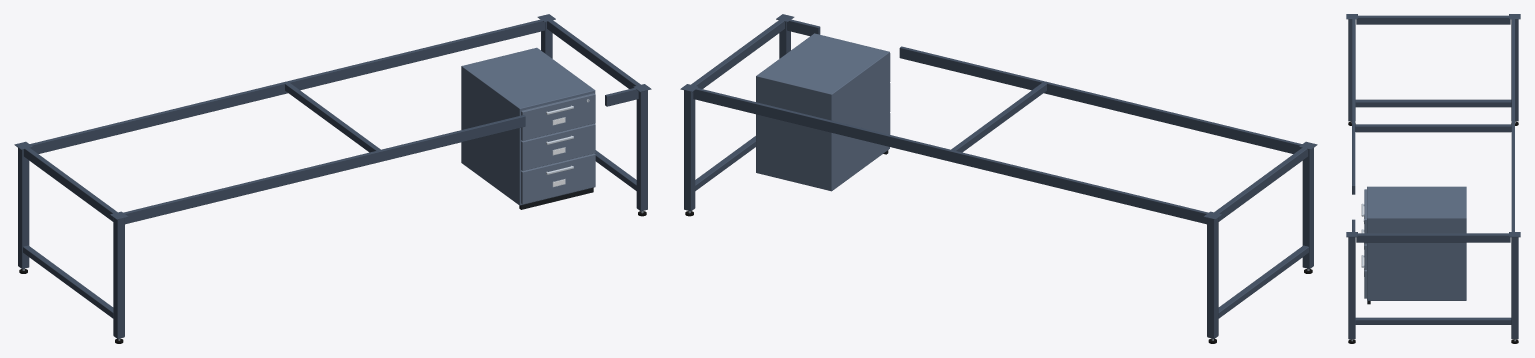
The model's file is bench-frame.glb.
3 renders of one model, left to right at view 1: azimuth 30°, elevation 25°; view 2: azimuth 150°, elevation 25°; view 3: azimuth 270°, elevation 25°, orthographic. The views are drawn at different scales.
Visible parts, largest first — view 1: BenchFrame; view 2: BenchFrame; view 3: BenchFrame.
Part boxes in pixels (<box>): BenchFrame: <box>14,14,651,343</box>; BenchFrame: <box>680,14,1317,343</box>; BenchFrame: <box>1346,14,1520,343</box>.
Bounding box in the file's own units: 3.17 × 0.72 × 1.05.
